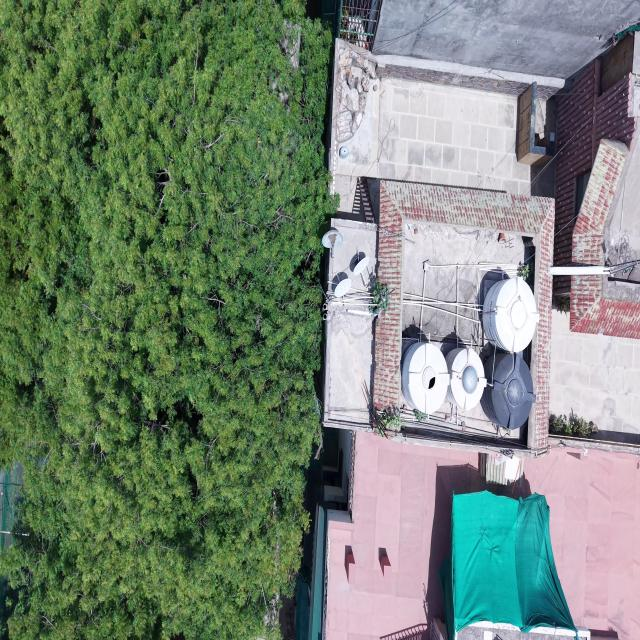ROOFTOP_BUILDING: (322, 3, 639, 639), (324, 40, 554, 454), (330, 32, 639, 265), (324, 180, 553, 454), (551, 31, 639, 452), (329, 40, 531, 211), (324, 433, 489, 639), (373, 0, 638, 77), (440, 491, 577, 637), (554, 32, 639, 265), (572, 140, 639, 264)
VEGETATION_TREE: (0, 0, 332, 639), (549, 410, 597, 437)
